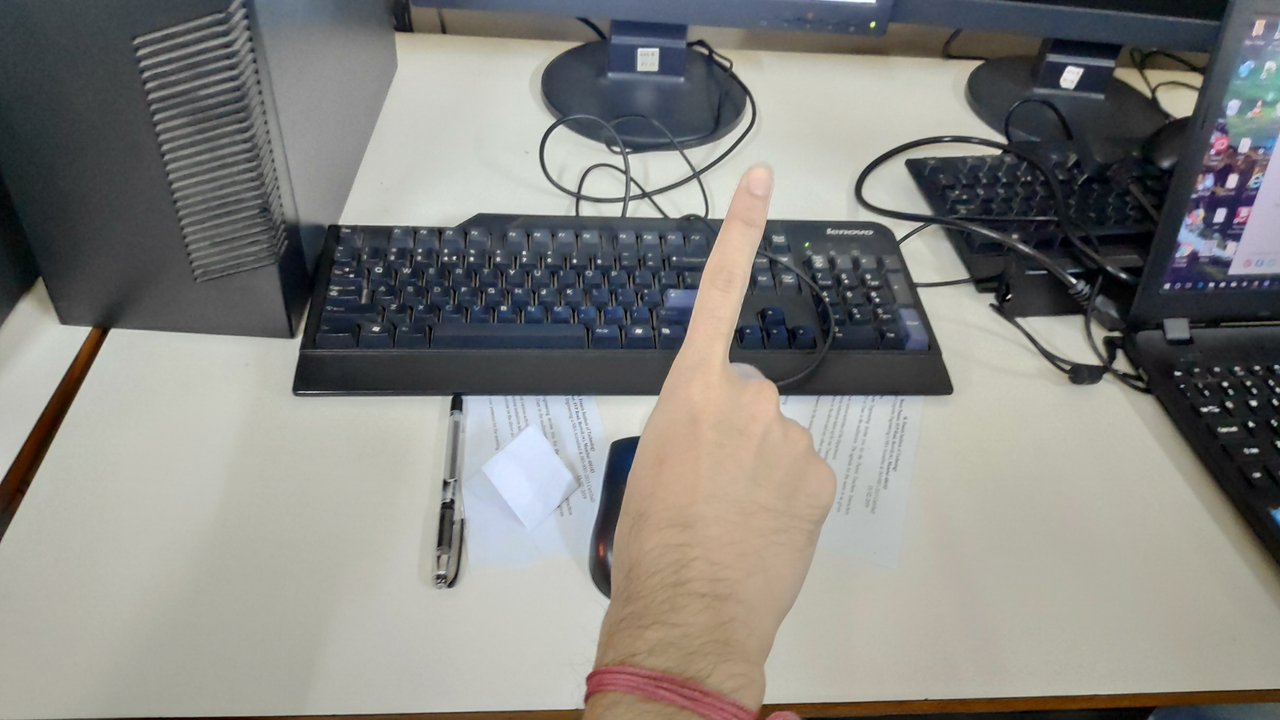fingertip: (726, 146, 788, 198)
